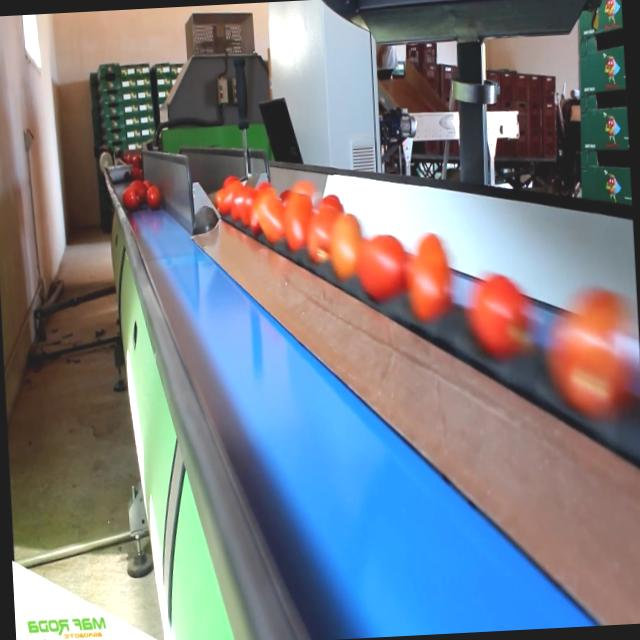Tomato: (555, 284, 640, 416), (468, 271, 534, 359), (406, 232, 456, 320), (358, 228, 413, 298), (328, 212, 364, 283), (305, 208, 345, 264), (284, 193, 318, 252), (258, 192, 290, 244), (219, 175, 244, 219), (238, 192, 264, 220), (130, 178, 145, 208), (145, 184, 162, 210), (124, 190, 137, 210), (321, 199, 343, 210)
